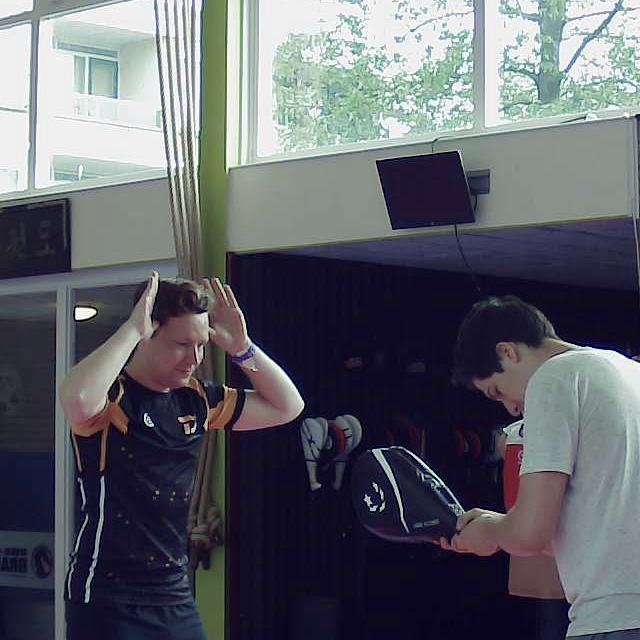paddle: (344, 441, 472, 544)
